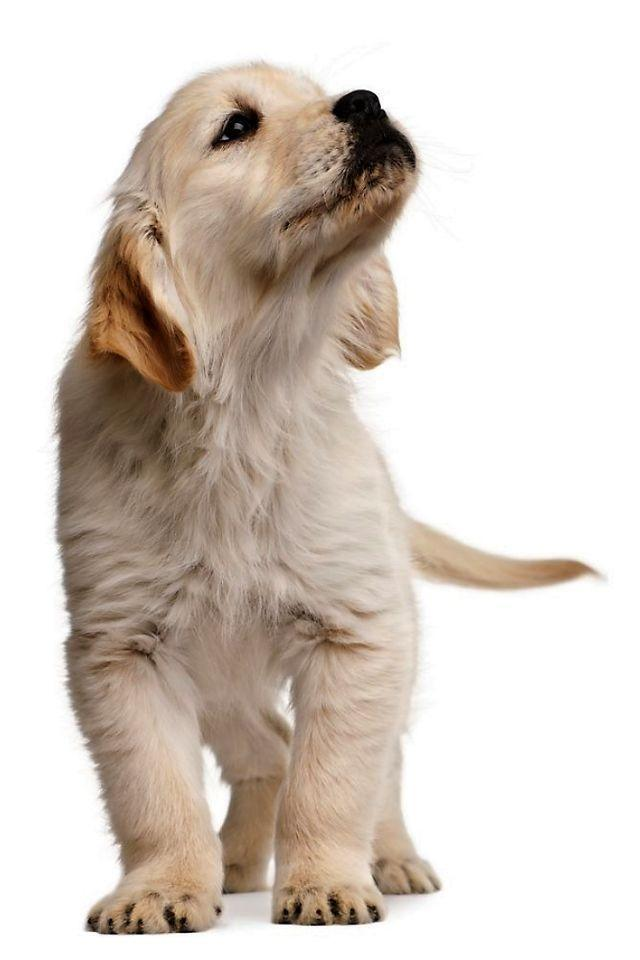puppy-dog: (39, 52, 604, 940)
